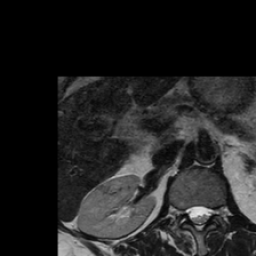CCS_normal: (195, 198, 201, 237)
LFS_stenosis: (211, 201, 220, 223)
LLS_normal: (201, 201, 211, 226)
RFS_severe_stenosis: (179, 201, 187, 221)
RLS_normal: (187, 199, 195, 226)
